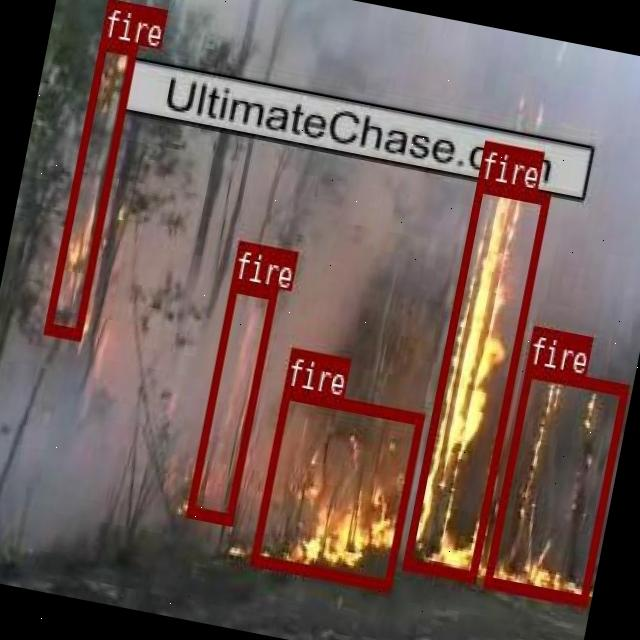fire: (402, 178, 550, 582), (249, 388, 424, 590), (482, 364, 628, 605), (44, 37, 137, 338), (185, 279, 276, 523)
